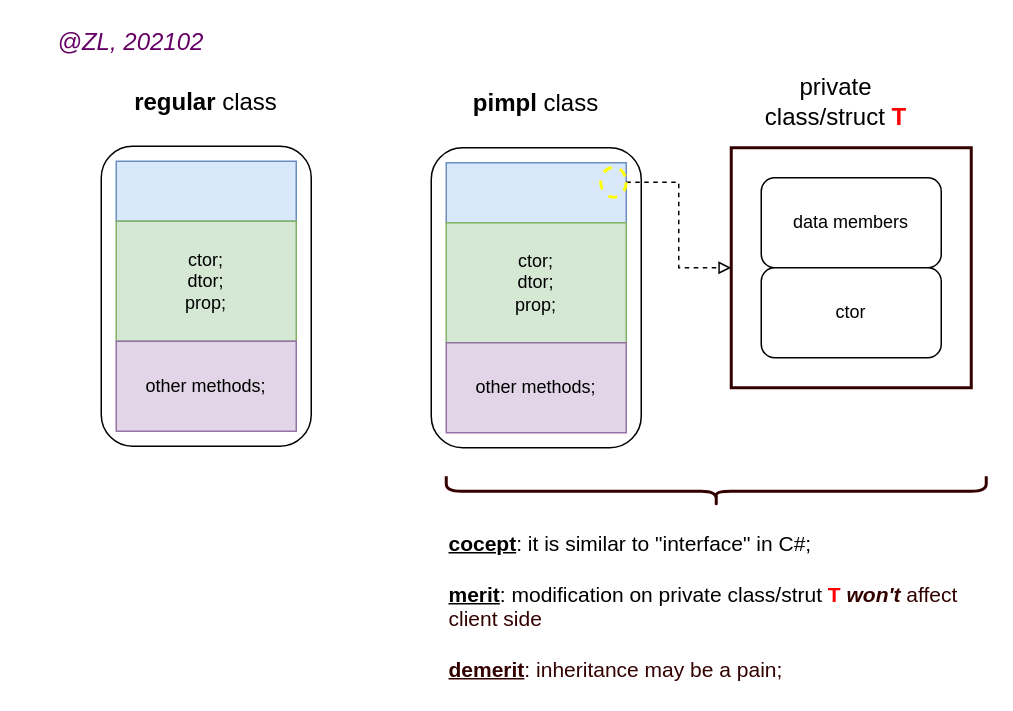
The diagram is 1013 pixels wide and 711 high, and some of its shapes have lost their labels. The box of each missing label's shape, as (x1, y1, x2, y2) in pixels:
data members;: (115, 160, 296, 221)
private class/struct T ; std::unique_ptr< T >;: (445, 161, 626, 223)
